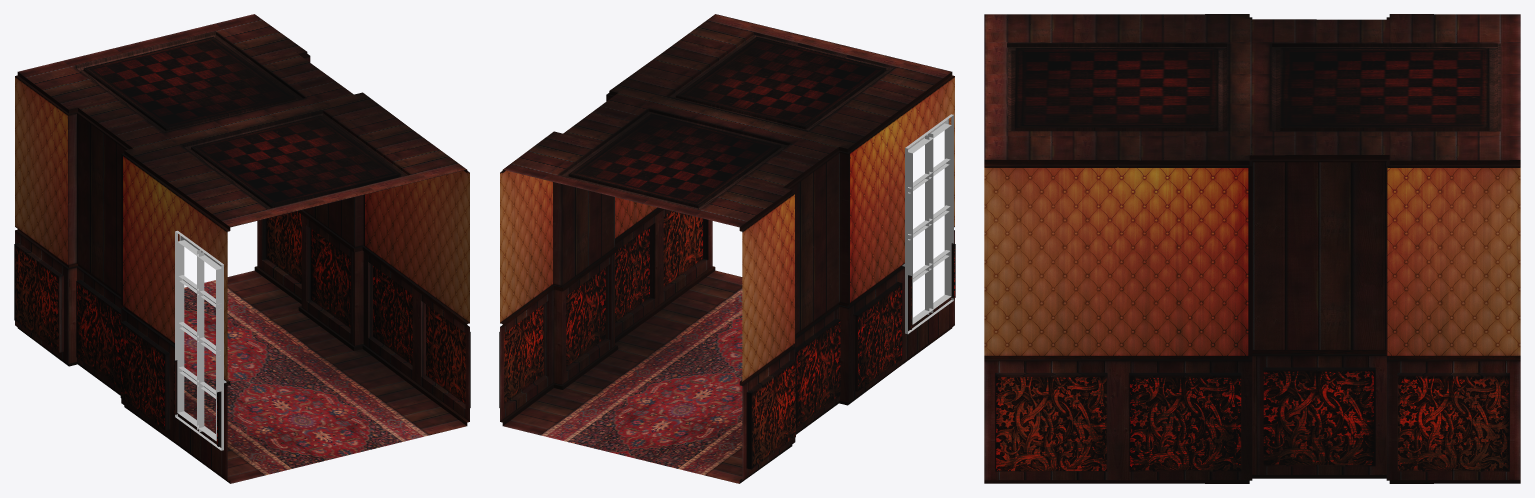
File: HallStraightWindows.FBX
3 renders of one model, left to right at view 1: azimuth 30°, elevation 25°; view 2: azimuth 150°, elevation 25°; view 3: azimuth 270°, elevation 25°, orthographic. The views are drawn at different scales.
Visible parts, largest first — view 1: HallStraightWithWindowL; view 2: HallStraightWithWindowL; view 3: HallStraightWithWindowL.
Boxes of the visible parts, x1,y1,x2,y2 form: HallStraightWithWindowL: [14, 14, 470, 483]; HallStraightWithWindowL: [499, 14, 955, 483]; HallStraightWithWindowL: [984, 14, 1520, 483].
Size of the model in its own units: 69 by 67.09 by 101.
